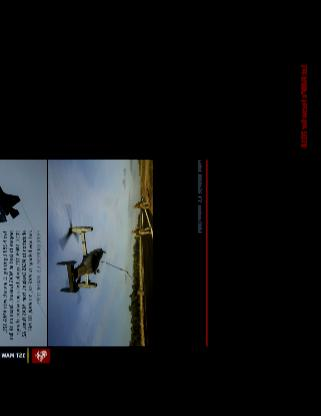F22: (0, 172, 21, 223)
Tornado: (55, 204, 104, 306)
